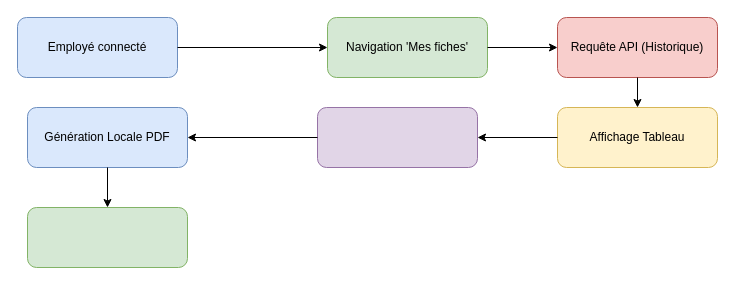
Some shapes in this 735 by 285 pixel diagram are drawn without their labels. The box of each missing label's shape, as (x1, y1, x2, y2) in pixels:
Clic Téléchargement: (316, 106, 478, 168)
Fichier Sauvegardé: (26, 206, 188, 268)
